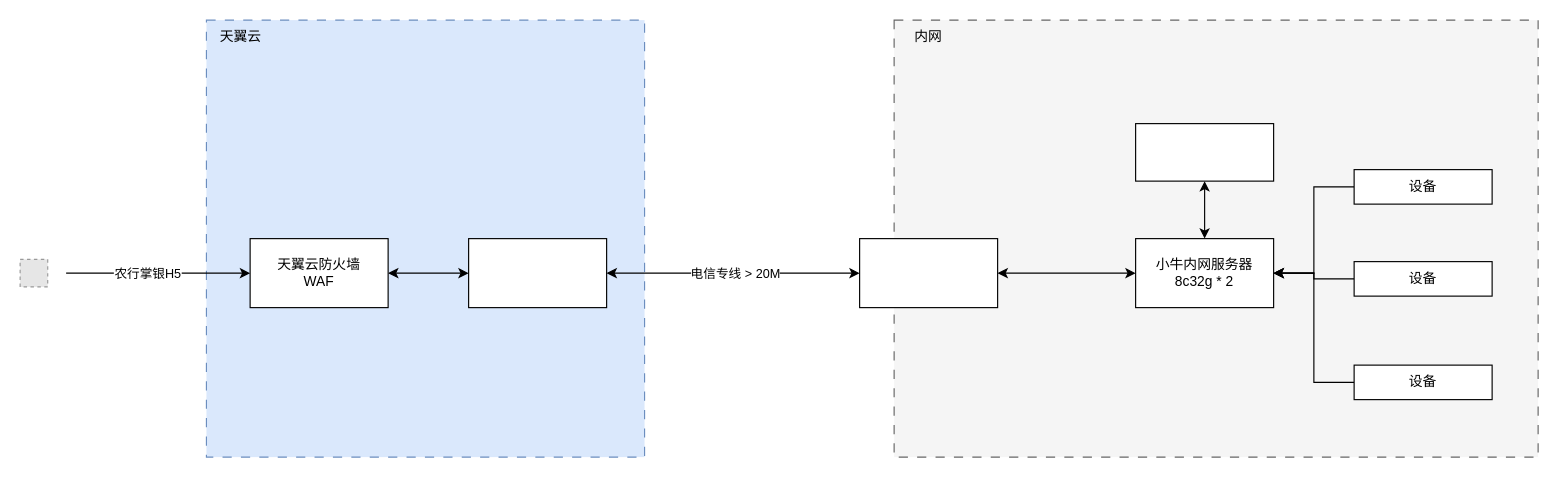
Some shapes in this 1558 by 477 pixel diagram are drawn without their labels. Grey dashed boxes stand in for pictures. Here are the shapes that lost their labels. From the top down, the centre of each, then its label:
point (1204, 151): 一卡通系统
point (537, 272): 天翼云服务器 2c4g
point (928, 272): 路由器
